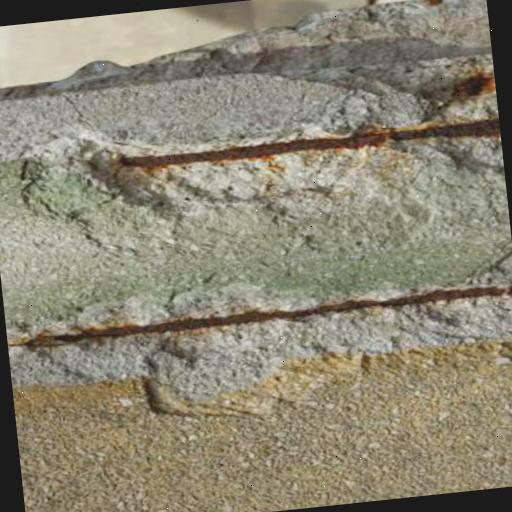spalling: (0, 43, 492, 243), (11, 228, 507, 379)
